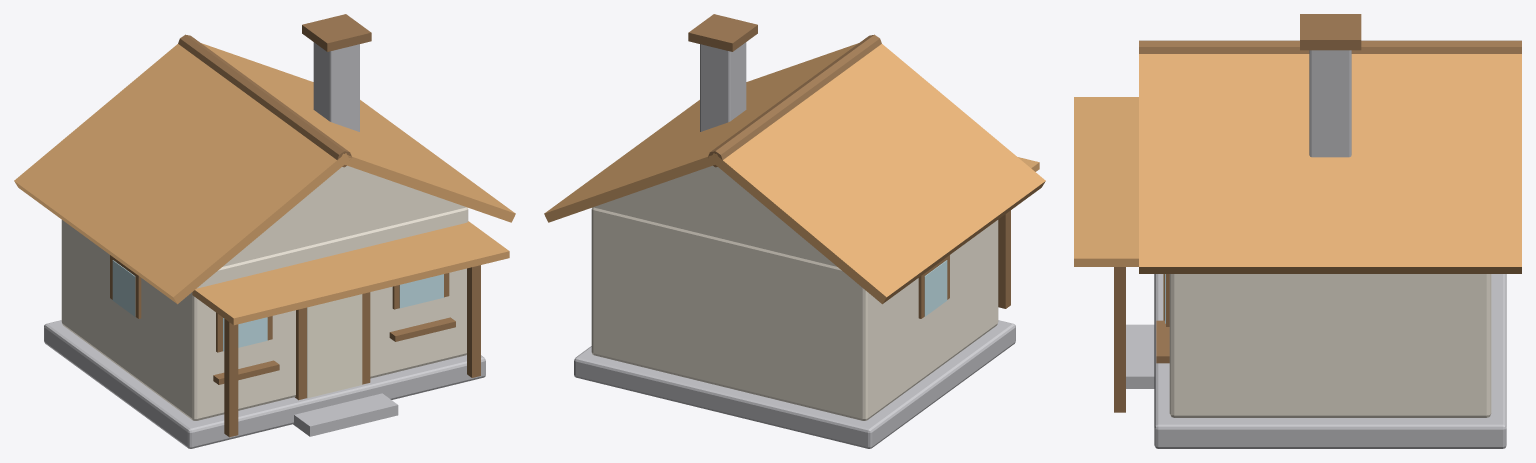
Rendered from ASTX_BUILDING_HOUSE.glb.
3 renders of one model, left to right at view 1: azimuth 30°, elevation 25°; view 2: azimuth 150°, elevation 25°; view 3: azimuth 270°, elevation 25°, orthographic. The views are drawn at different scales.
Visible parts, largest first — view 1: ASTX_BUILDING_HOUSE_roofL, ASTX_BUILDING_HOUSE_walls, ASTX_BUILDING_HOUSE_porchRoof, ASTX_BUILDING_HOUSE_foundation, ASTX_BUILDING_HOUSE_roofR, ASTX_BUILDING_HOUSE_gableS, ASTX_BUILDING_HOUSE_door, ASTX_BUILDING_HOUSE_chimney, ASTX_BUILDING_HOUSE_ridge, ASTX_BUILDING_HOUSE_step, ASTX_BUILDING_HOUSE_doorFrame, ASTX_BUILDING_HOUSE_chimneyCap (+8 smaller); view 2: ASTX_BUILDING_HOUSE_walls, ASTX_BUILDING_HOUSE_roofL, ASTX_BUILDING_HOUSE_foundation, ASTX_BUILDING_HOUSE_roofR, ASTX_BUILDING_HOUSE_gableN, ASTX_BUILDING_HOUSE_chimney, ASTX_BUILDING_HOUSE_ridge, ASTX_BUILDING_HOUSE_chimneyCap, ASTX_BUILDING_HOUSE_porch-2.2, ASTX_BUILDING_HOUSE_winW, ASTX_BUILDING_HOUSE_winFrameW; view 3: ASTX_BUILDING_HOUSE_roofR, ASTX_BUILDING_HOUSE_walls, ASTX_BUILDING_HOUSE_foundation, ASTX_BUILDING_HOUSE_porchRoof, ASTX_BUILDING_HOUSE_chimney, ASTX_BUILDING_HOUSE_ridge, ASTX_BUILDING_HOUSE_chimneyCap, ASTX_BUILDING_HOUSE_step, ASTX_BUILDING_HOUSE_porch2.2, ASTX_BUILDING_HOUSE_sillF1.
Part boxes in pixels (x1=…): ASTX_BUILDING_HOUSE_roofL: x1=14, y1=44, x2=350, y2=304; ASTX_BUILDING_HOUSE_walls: x1=61, y1=207, x2=468, y2=420; ASTX_BUILDING_HOUSE_porchRoof: x1=192, y1=221, x2=509, y2=325; ASTX_BUILDING_HOUSE_foundation: x1=44, y1=320, x2=485, y2=448; ASTX_BUILDING_HOUSE_roofR: x1=201, y1=43, x2=515, y2=222; ASTX_BUILDING_HOUSE_gableS: x1=223, y1=165, x2=466, y2=266; ASTX_BUILDING_HOUSE_door: x1=307, y1=294, x2=362, y2=398; ASTX_BUILDING_HOUSE_chimney: x1=313, y1=42, x2=359, y2=131; ASTX_BUILDING_HOUSE_ridge: x1=178, y1=34, x2=351, y2=167; ASTX_BUILDING_HOUSE_step: x1=293, y1=393, x2=398, y2=436; ASTX_BUILDING_HOUSE_doorFrame: x1=295, y1=292, x2=370, y2=400; ASTX_BUILDING_HOUSE_chimneyCap: x1=302, y1=14, x2=371, y2=51; ASTX_BUILDING_HOUSE_walls: x1=591, y1=207, x2=998, y2=420; ASTX_BUILDING_HOUSE_roofL: x1=710, y1=44, x2=1045, y2=304; ASTX_BUILDING_HOUSE_foundation: x1=574, y1=320, x2=1015, y2=448; ASTX_BUILDING_HOUSE_roofR: x1=544, y1=43, x2=858, y2=222; ASTX_BUILDING_HOUSE_gableN: x1=593, y1=165, x2=836, y2=266; ASTX_BUILDING_HOUSE_chimney: x1=700, y1=42, x2=746, y2=131; ASTX_BUILDING_HOUSE_ridge: x1=708, y1=34, x2=881, y2=167; ASTX_BUILDING_HOUSE_chimneyCap: x1=688, y1=14, x2=757, y2=51; ASTX_BUILDING_HOUSE_porch-2.2: x1=998, y1=210, x2=1010, y2=308; ASTX_BUILDING_HOUSE_winW: x1=924, y1=260, x2=947, y2=316; ASTX_BUILDING_HOUSE_winFrameW: x1=918, y1=255, x2=949, y2=318; ASTX_BUILDING_HOUSE_roofR: x1=1139, y1=54, x2=1521, y2=273; ASTX_BUILDING_HOUSE_walls: x1=1169, y1=274, x2=1491, y2=417; ASTX_BUILDING_HOUSE_foundation: x1=1154, y1=274, x2=1506, y2=448; ASTX_BUILDING_HOUSE_porchRoof: x1=1074, y1=97, x2=1138, y2=266; ASTX_BUILDING_HOUSE_chimney: x1=1309, y1=50, x2=1351, y2=157; ASTX_BUILDING_HOUSE_ridge: x1=1139, y1=40, x2=1521, y2=53; ASTX_BUILDING_HOUSE_chimneyCap: x1=1300, y1=14, x2=1361, y2=50; ASTX_BUILDING_HOUSE_step: x1=1126, y1=324, x2=1154, y2=388; ASTX_BUILDING_HOUSE_porch2.2: x1=1114, y1=267, x2=1125, y2=412; ASTX_BUILDING_HOUSE_sillF1: x1=1156, y1=320, x2=1169, y2=363.
Bounding box in the file's own units: 6.21 × 5.45 × 5.85.
